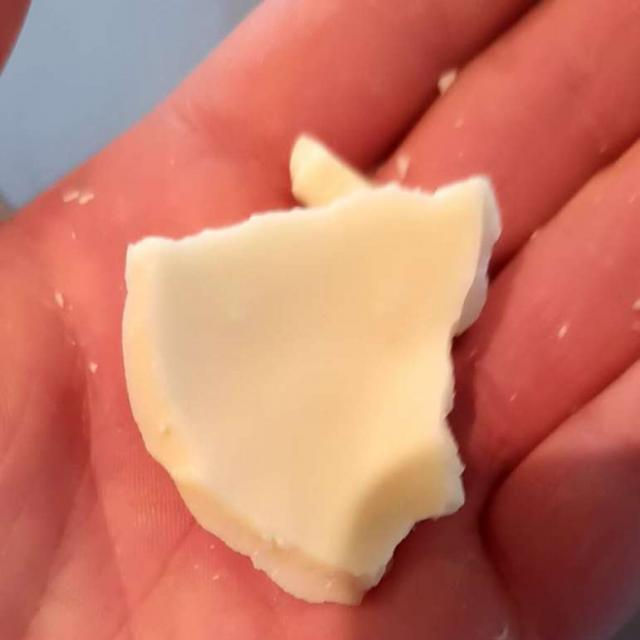white-chocolate: (125, 140, 513, 619)
